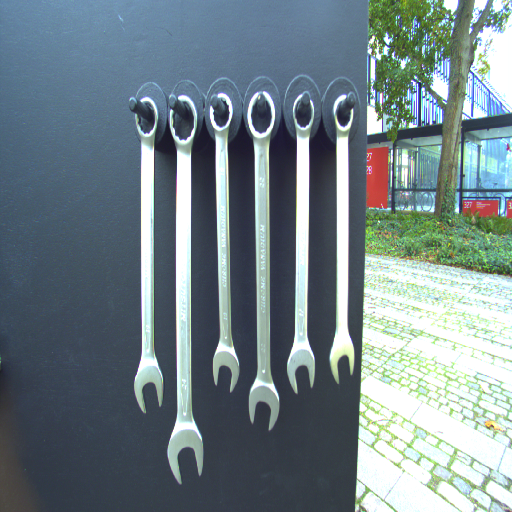bottom: (168, 422, 206, 486), (247, 377, 281, 432), (133, 358, 165, 415), (285, 340, 317, 397), (210, 344, 242, 393), (327, 332, 356, 385)
top: (167, 94, 203, 151), (246, 91, 278, 140), (132, 96, 162, 145), (205, 92, 236, 136), (290, 92, 317, 136), (332, 92, 356, 134)
